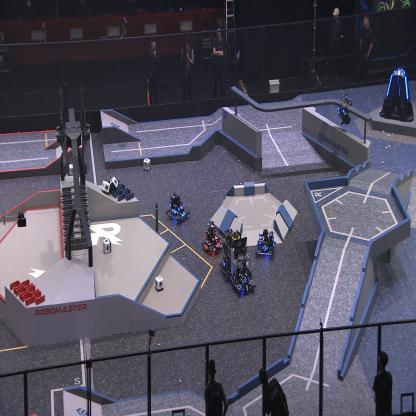car: (230, 234, 257, 294), (218, 227, 242, 281), (166, 192, 190, 224), (202, 221, 222, 255), (255, 228, 276, 258)
